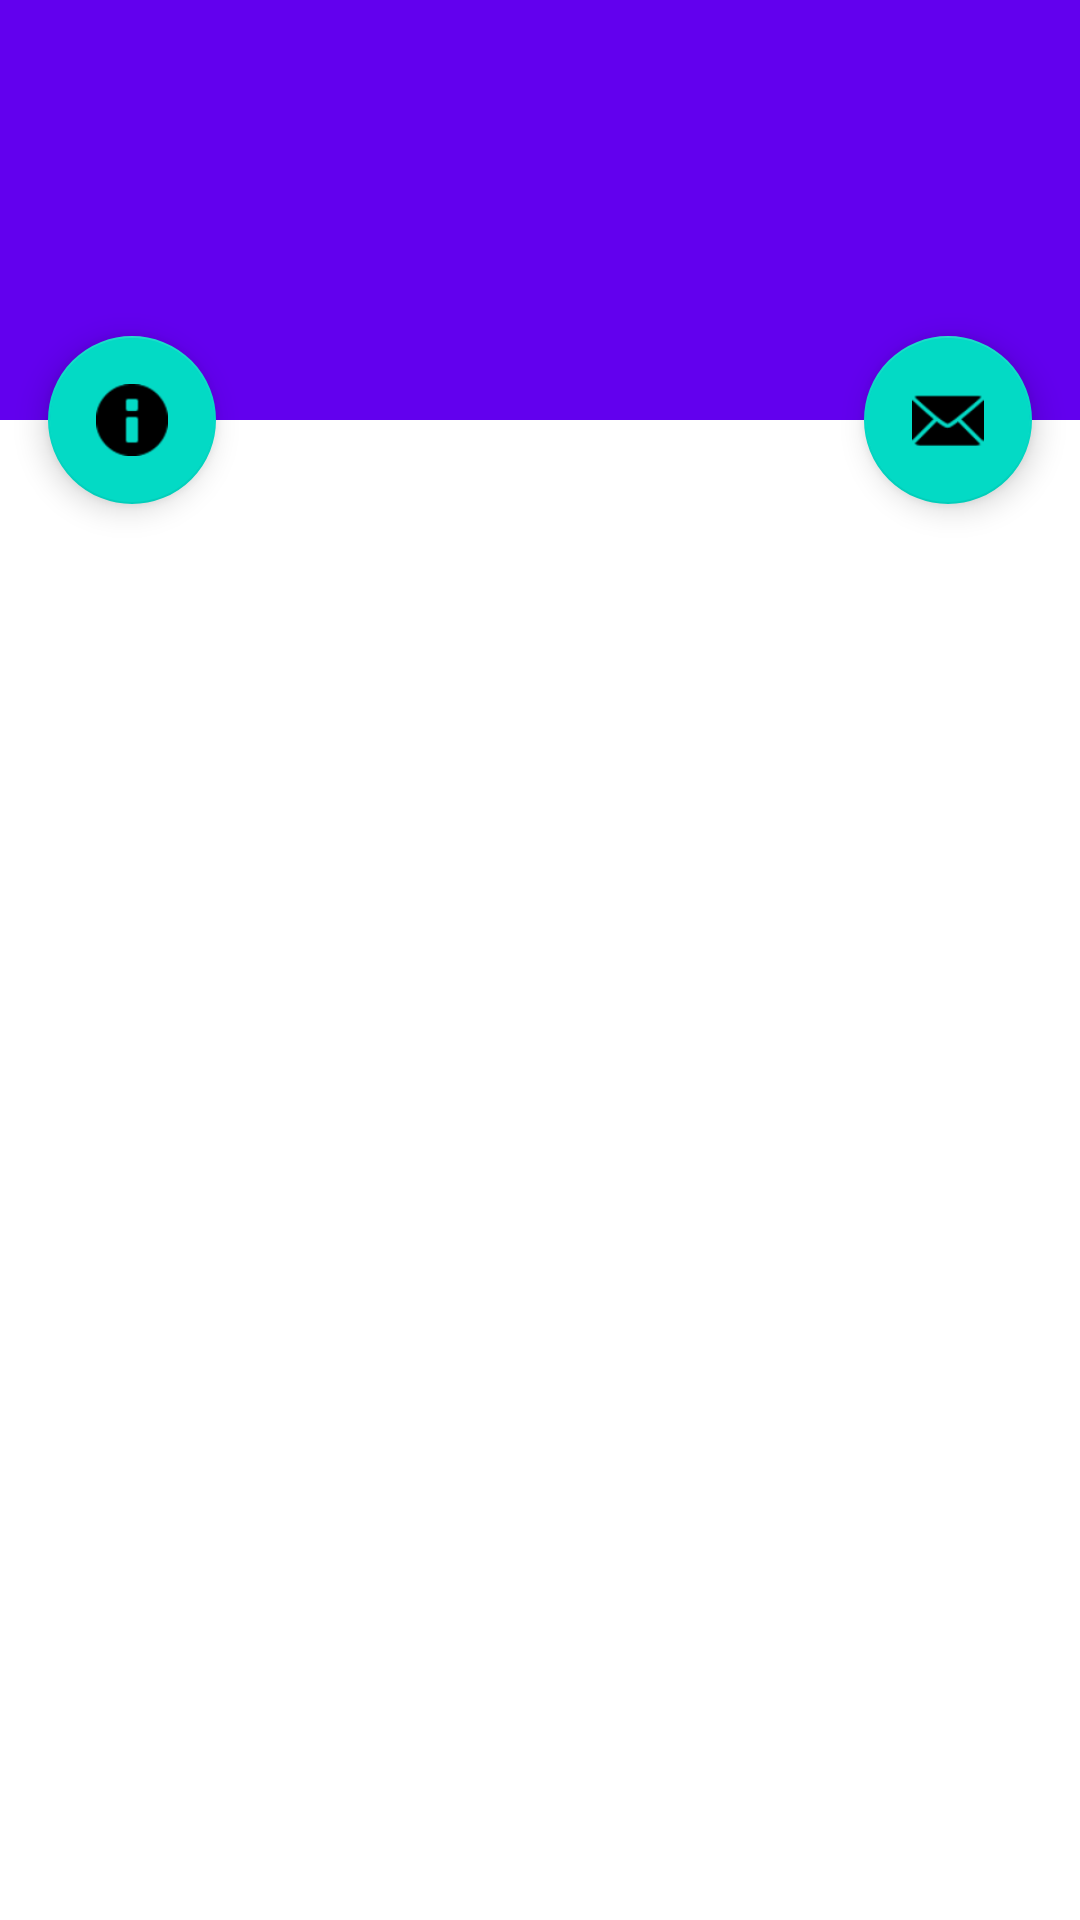

Icons on this 1080 × 1920 Android screen, each with the point to tap as (x,y):
email: (948,420)
info: (132,420)
